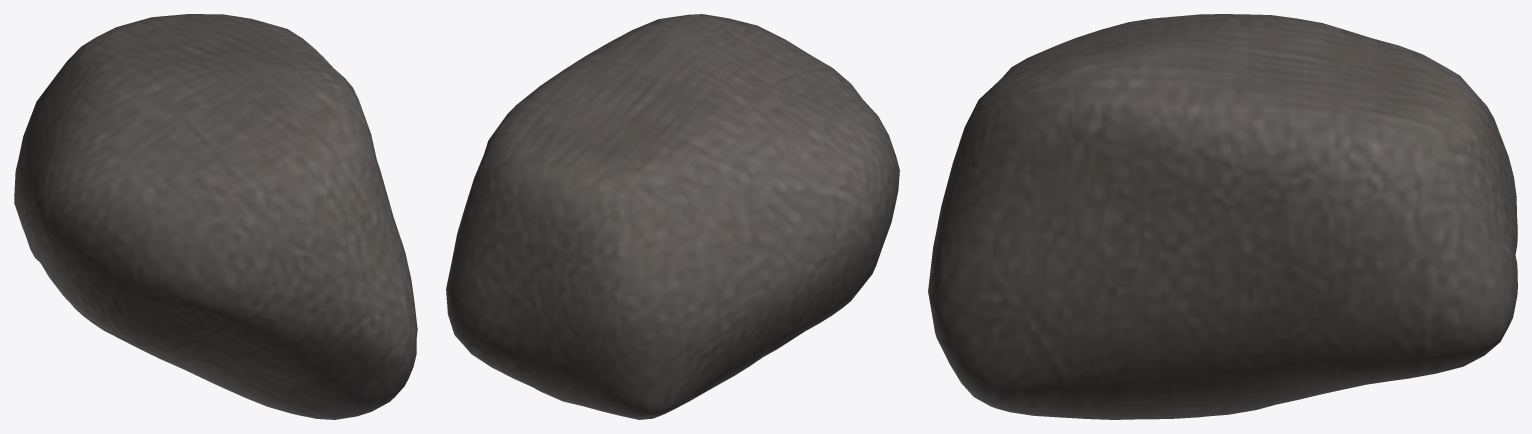
File: stone_02.glb
The picture shows the model from 3 angles, left to right: view 1: azimuth 30°, elevation 25°; view 2: azimuth 150°, elevation 25°; view 3: azimuth 270°, elevation 25°; orthographic projection. The views are drawn at different scales.
Parts seen in each view (by area): view 1: mesh; view 2: mesh; view 3: mesh.
Part boxes in pixels (left/top/right/bottom): mesh: left=14, top=14, right=417, bottom=419; mesh: left=446, top=14, right=899, bottom=419; mesh: left=928, top=14, right=1517, bottom=419.
Size of the model in its own units: 0.7226 by 0.6855 by 0.9968.
Materials: 1 (1 with a texture image).
